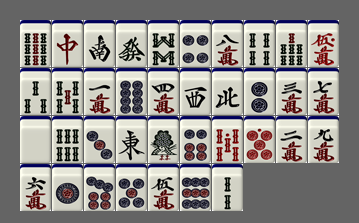0m: (308, 20, 339, 67)
0p: (244, 116, 275, 163)
0s: (212, 116, 243, 163)
1m: (84, 68, 115, 115)
1p: (52, 164, 83, 211)
1s: (148, 116, 179, 163)
1z: (116, 116, 147, 163)
2m: (276, 116, 307, 163)
2p: (244, 68, 275, 115)
2s: (212, 164, 243, 211)
2z: (84, 20, 115, 67)
3m: (276, 68, 307, 115)
3p: (84, 116, 115, 163)
3s: (20, 68, 51, 115)
3z: (180, 68, 211, 115)
4m: (148, 68, 179, 115)
4p: (180, 20, 211, 67)
4s: (244, 20, 275, 67)
4z: (212, 68, 243, 115)
5m: (148, 164, 179, 211)
5p: (116, 164, 147, 211)
5s: (52, 68, 83, 115)
5z: (20, 116, 51, 163)
6m: (20, 164, 51, 211)
6p: (180, 116, 211, 163)
6s: (52, 116, 83, 163)
6z: (116, 20, 147, 67)
7m: (308, 68, 339, 115)
7p: (84, 164, 115, 211)
7s: (276, 20, 307, 67)
7z: (52, 20, 83, 67)
8m: (212, 20, 243, 67)
8p: (116, 68, 147, 115)
8s: (148, 20, 179, 67)
9m: (308, 116, 339, 163)
9p: (180, 164, 211, 211)
9s: (20, 20, 51, 67)
